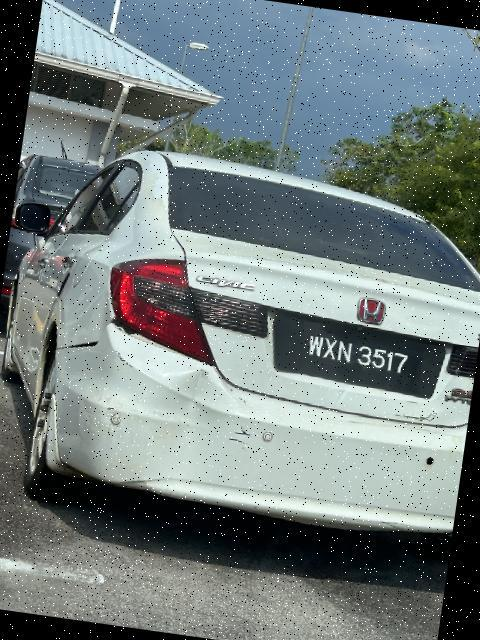License_Plate: (277, 314, 441, 398)
WXN3517: (277, 314, 441, 398)
car: (1, 135, 480, 557)
